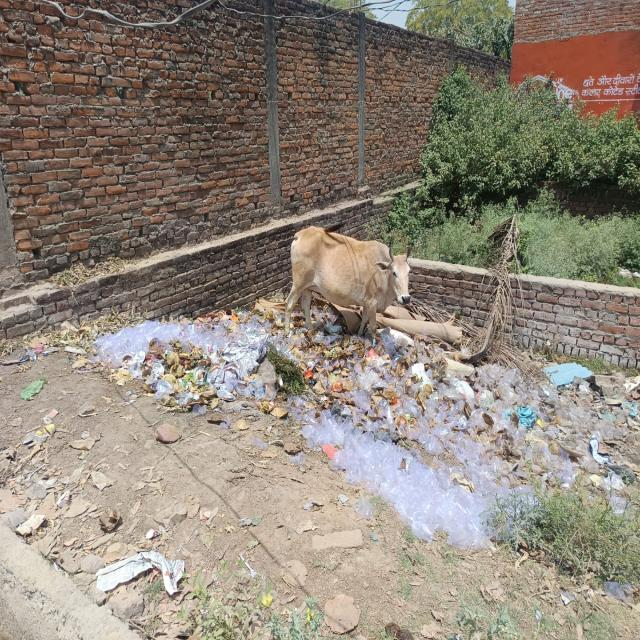Garbage: (104, 311, 602, 537)
